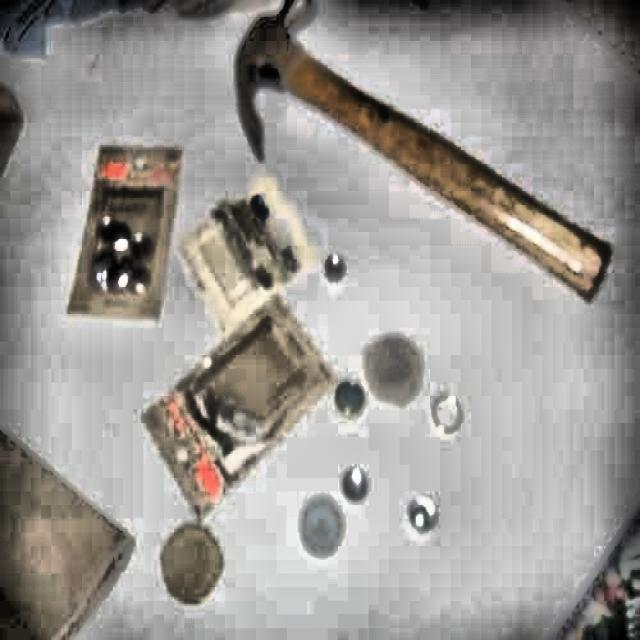hammer: (235, 2, 615, 302)
